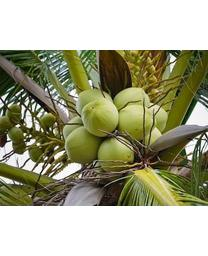coconut: (97, 134, 135, 175), (82, 98, 119, 136), (117, 103, 154, 140), (65, 126, 102, 163), (113, 88, 151, 112)
